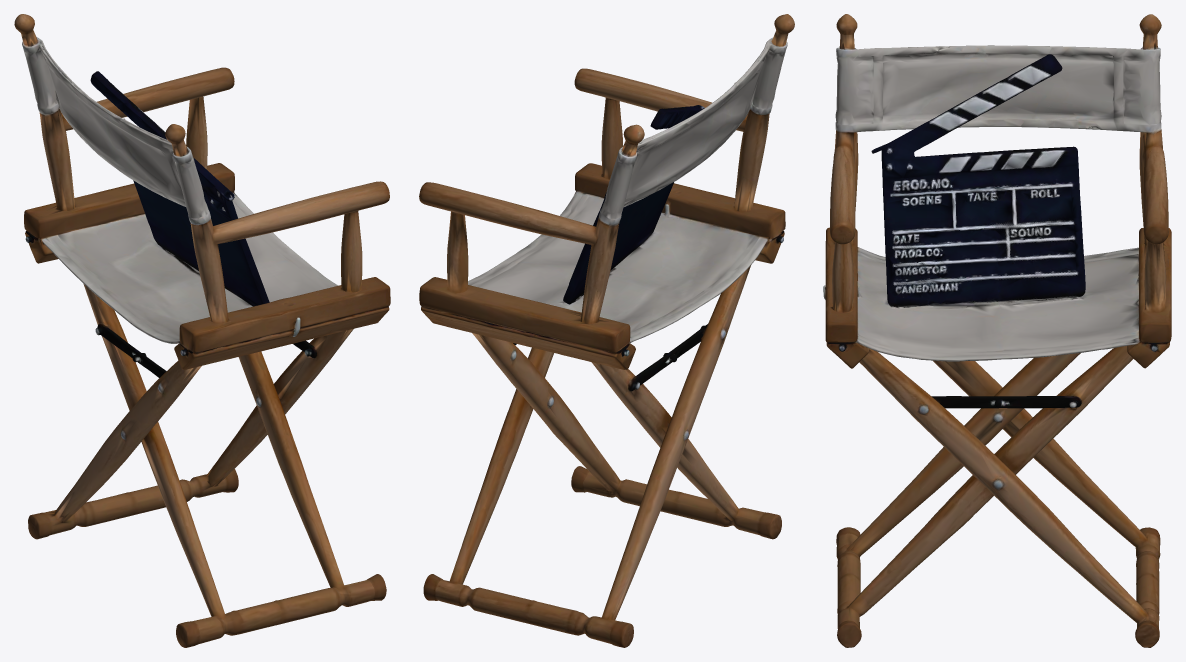
The model's file is director_chair_lo.glb.
3 renders of one model, left to right at view 1: azimuth 30°, elevation 25°; view 2: azimuth 150°, elevation 25°; view 3: azimuth 270°, elevation 25°, orthographic.
Visible parts, largest first — view 1: tripo_node_21f65717-0523-447d-b934-4be5546dddea; view 2: tripo_node_21f65717-0523-447d-b934-4be5546dddea; view 3: tripo_node_21f65717-0523-447d-b934-4be5546dddea.
Part boxes in pixels (left/top/right/bottom): tripo_node_21f65717-0523-447d-b934-4be5546dddea: left=14, top=14, right=390, bottom=647; tripo_node_21f65717-0523-447d-b934-4be5546dddea: left=419, top=14, right=794, bottom=647; tripo_node_21f65717-0523-447d-b934-4be5546dddea: left=823, top=14, right=1171, bottom=647.
Bounding box in the file's own units: 0.3689 × 0.8496 × 0.505.
Materials: 1 (1 with a texture image).
